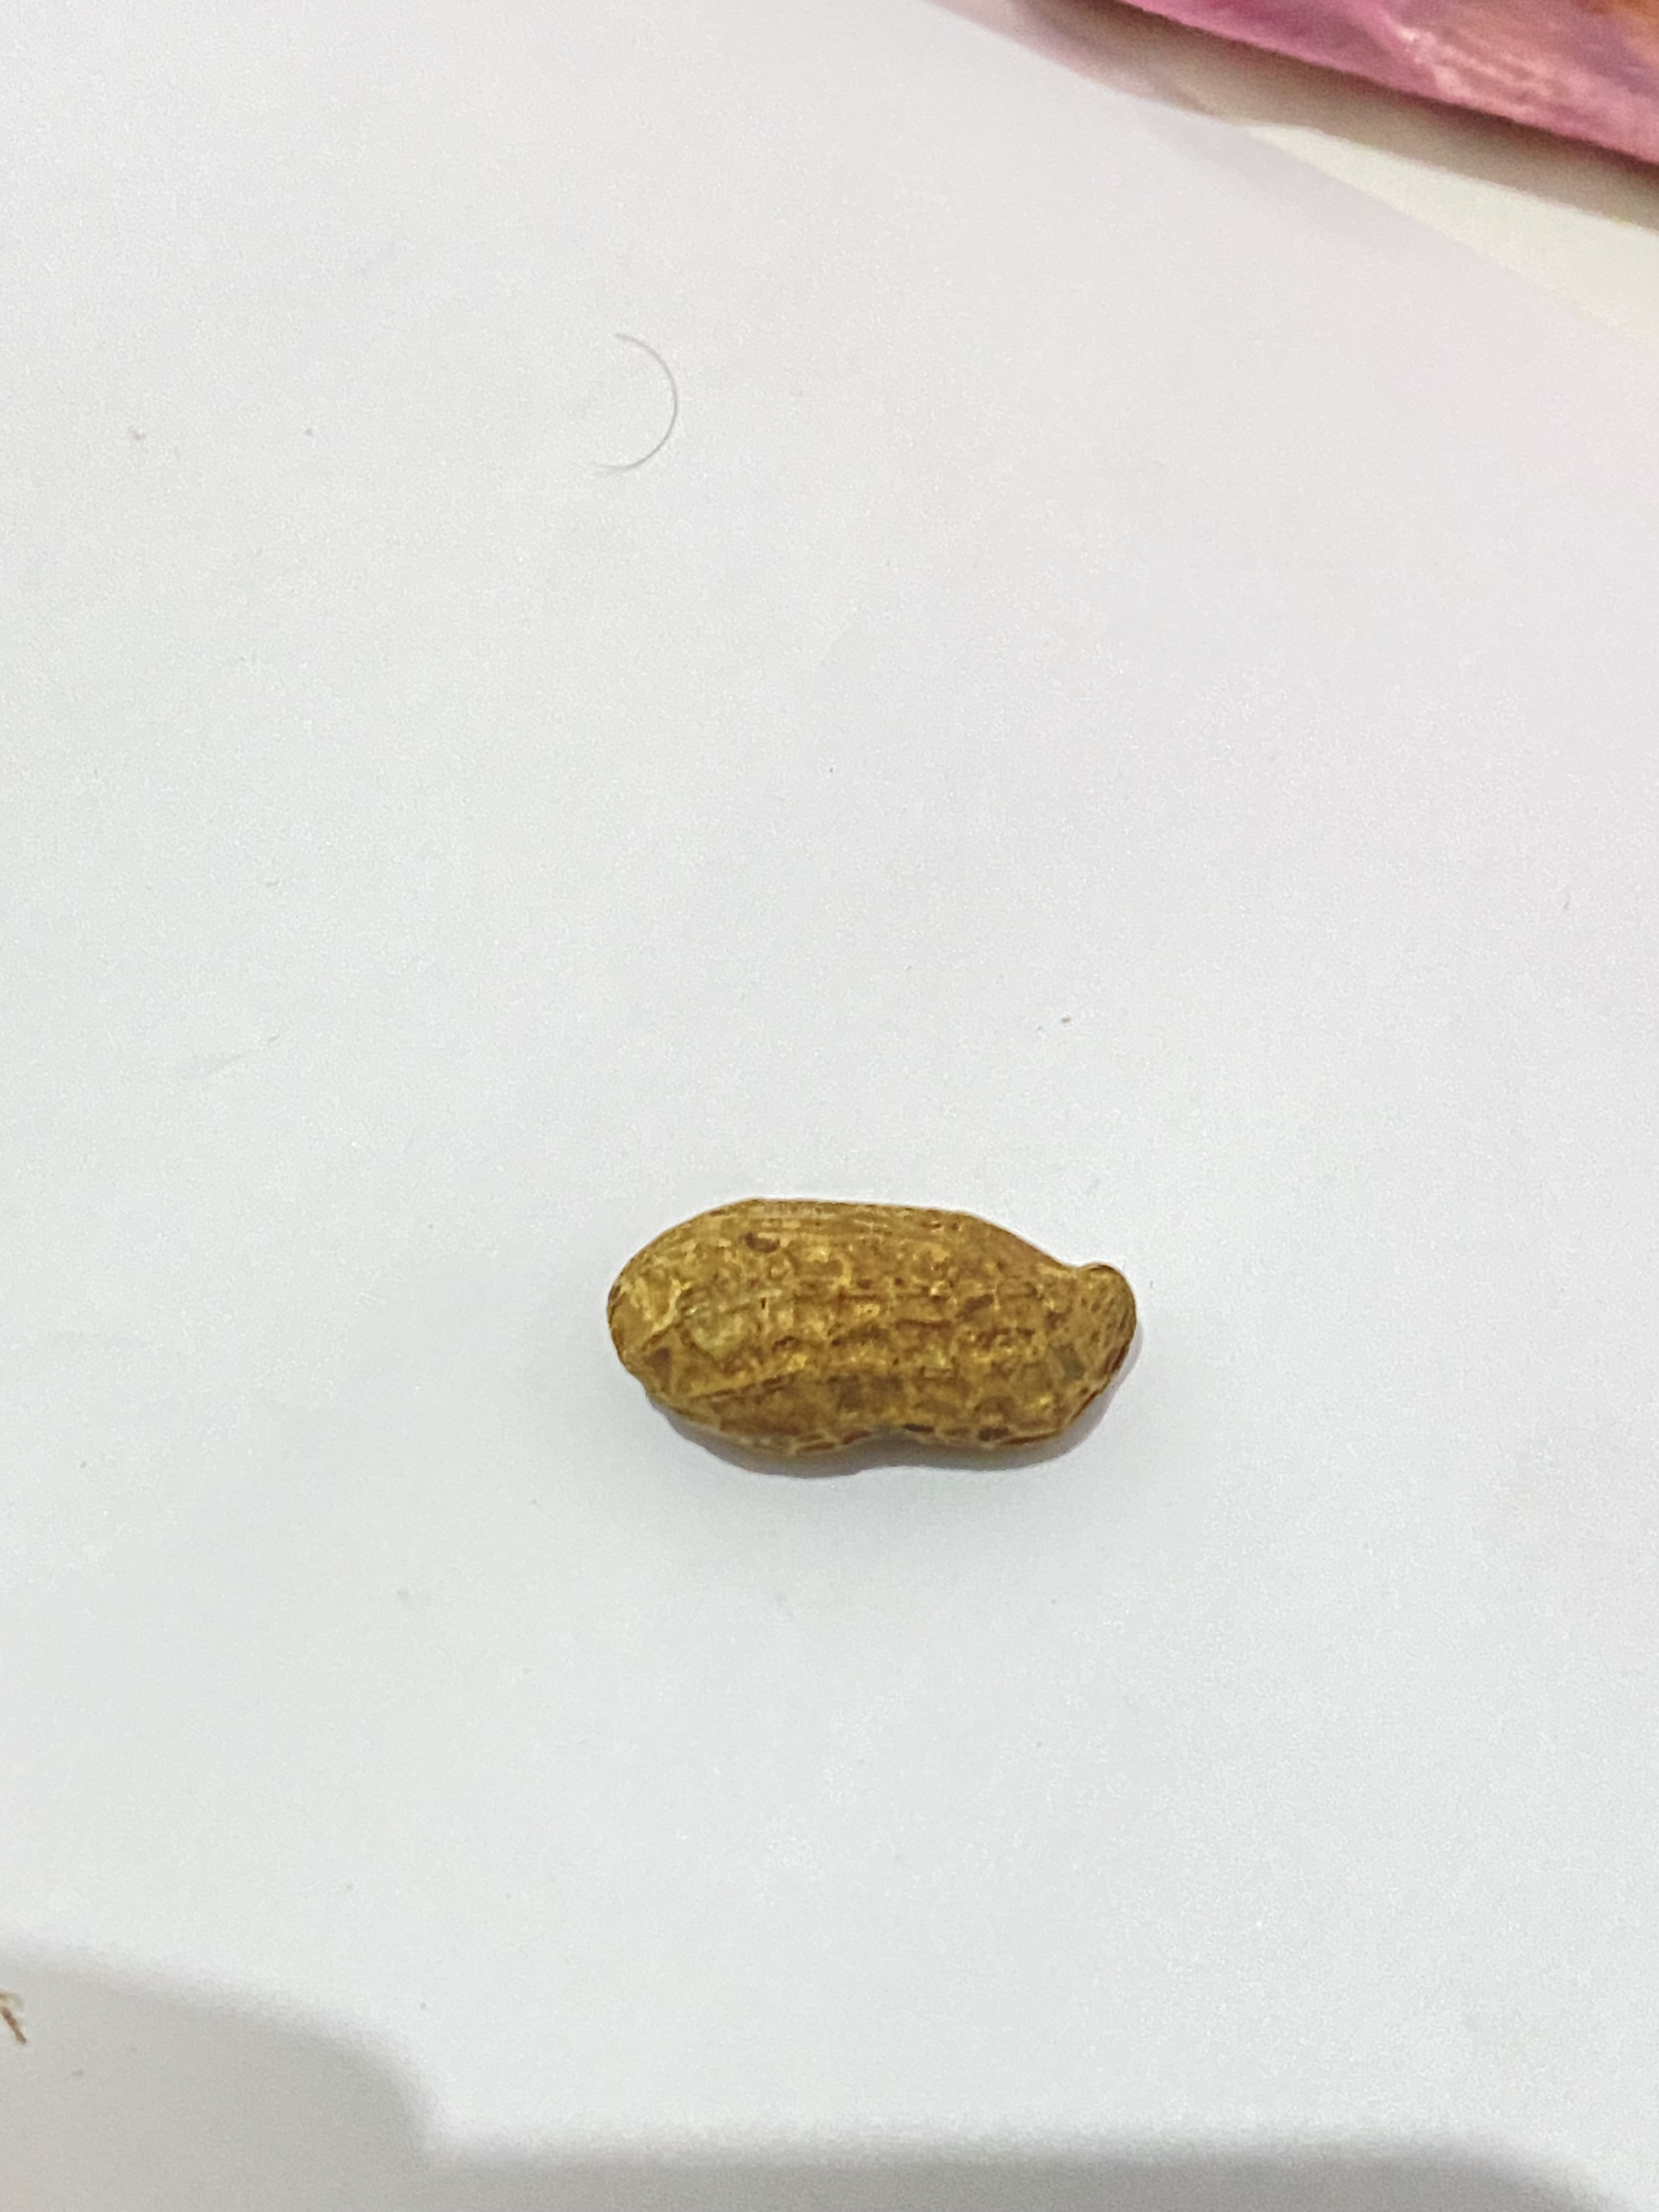kacang1: (566, 1134, 1183, 1500)
